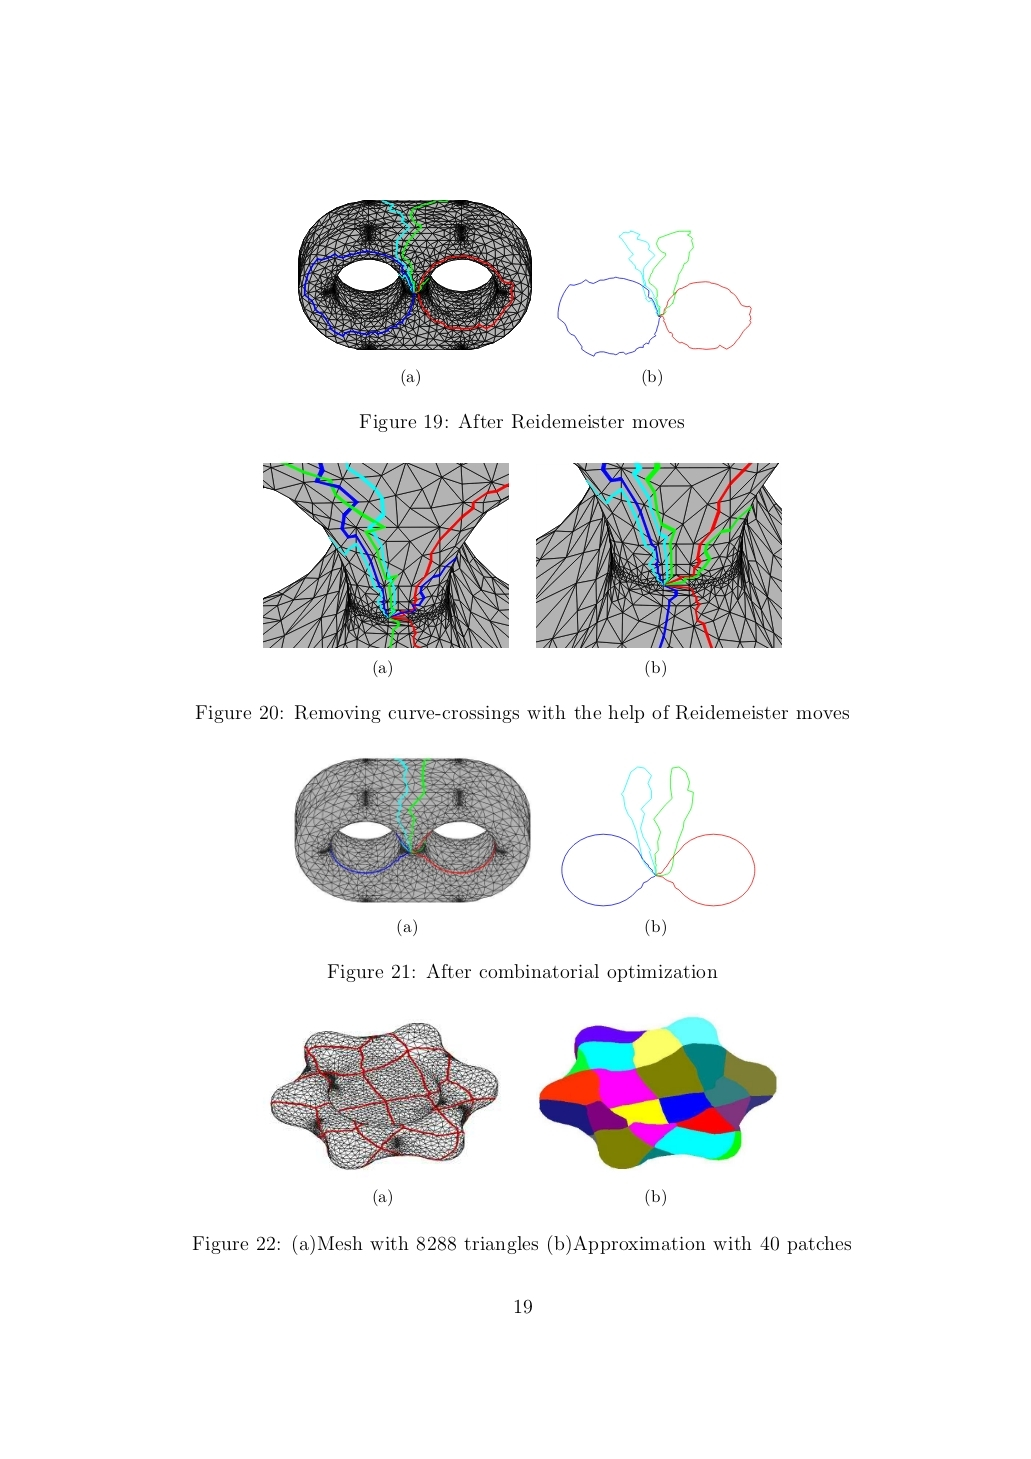figure: (536, 461, 781, 648), (263, 462, 509, 648), (539, 1016, 775, 1169), (298, 200, 531, 349), (293, 757, 530, 902), (270, 1023, 499, 1169), (561, 766, 755, 906), (557, 230, 751, 356)
